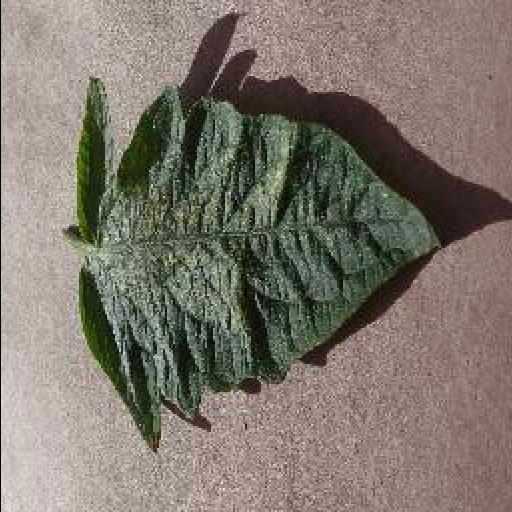disease_tomato: (74, 78, 440, 452)
